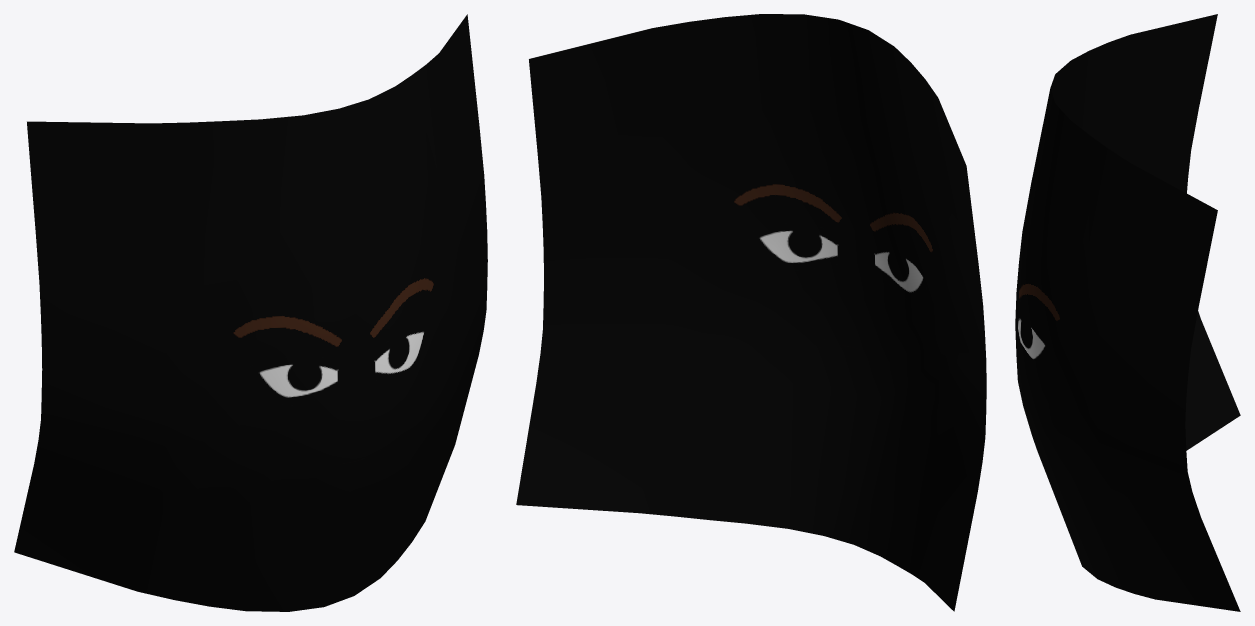
The model's file is Mask_9.glb.
The picture shows the model from 3 angles, left to right: view 1: azimuth 30°, elevation 25°; view 2: azimuth 150°, elevation 25°; view 3: azimuth 270°, elevation 25°; orthographic projection. The views are drawn at different scales.
Parts seen in each view (by area): view 1: Face09; view 2: Face09; view 3: Face09.
Boxes of the visible parts, x1=… form: Face09: x1=14, y1=14, x2=487, y2=611; Face09: x1=516, y1=14, x2=986, y2=611; Face09: x1=1015, y1=14, x2=1240, y2=611.
Size of the model in its own units: 91.86 by 100 by 44.09.
Materials: 1 (1 with a texture image).
